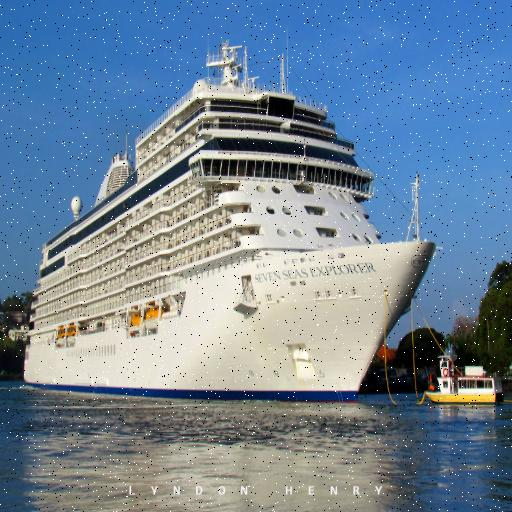cruises: (20, 41, 441, 409)
